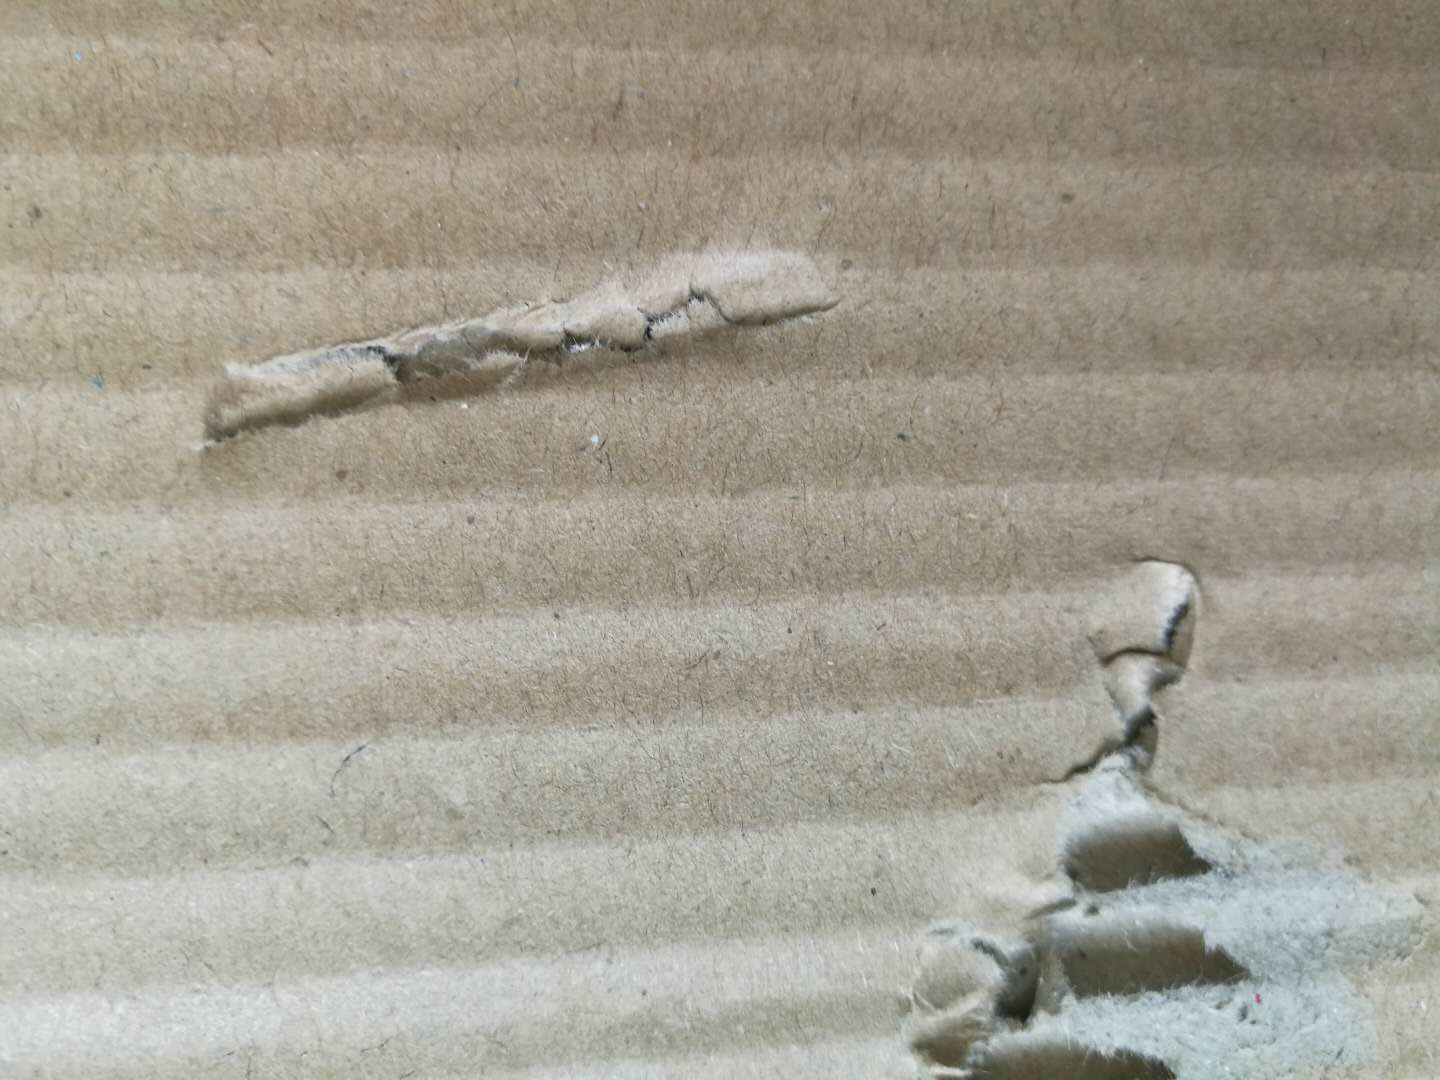defect: (825, 533, 1440, 1079), (160, 208, 905, 489)
